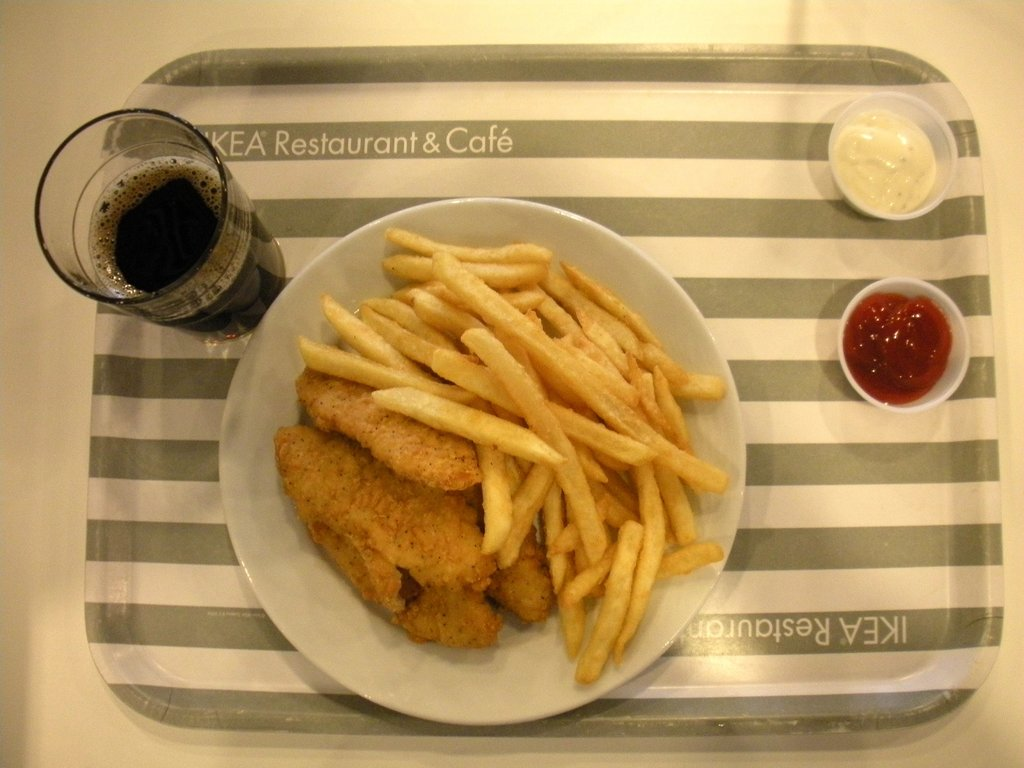French fries: (294, 218, 725, 687)
